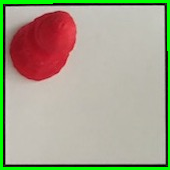Red Bishop: (7, 7, 78, 84)
